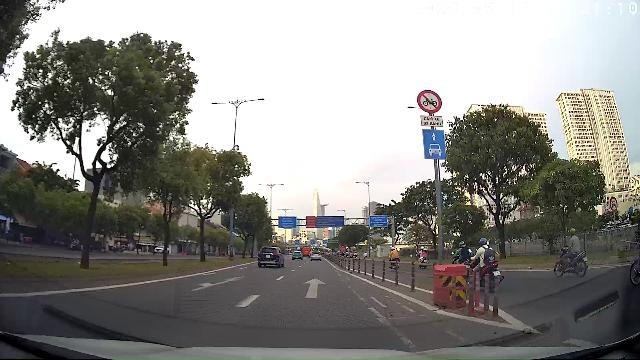103a-cam-oto: (610, 196, 618, 212)
